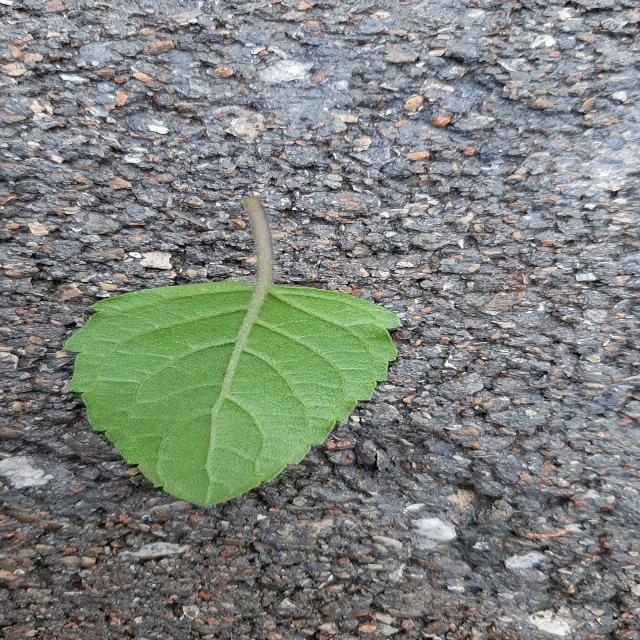tulsi: (65, 200, 401, 506)
